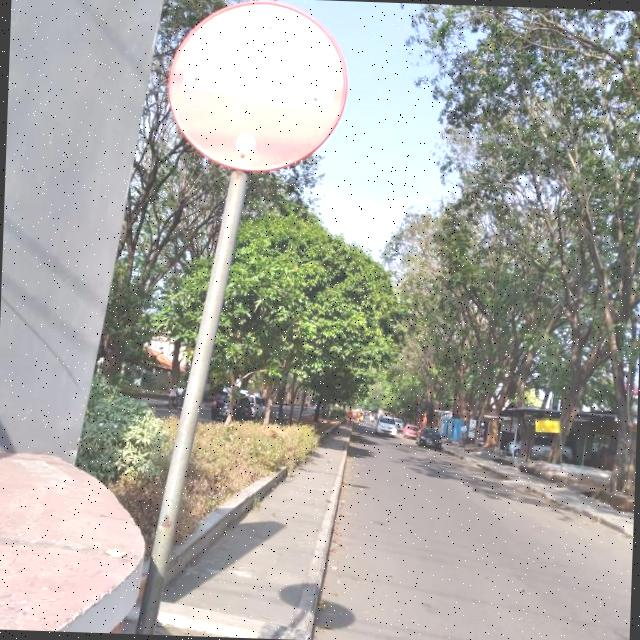Zakaz wjazdu: (166, 0, 346, 171)
